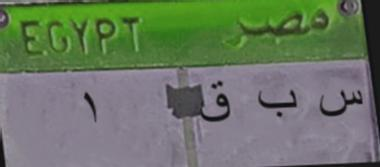baa: (254, 82, 302, 122)
qaaf: (194, 75, 236, 132), (79, 86, 104, 130)
seen: (316, 83, 366, 128)
